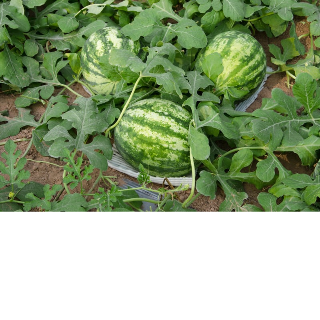dua_hau: (116, 100, 208, 178), (193, 28, 267, 104)
